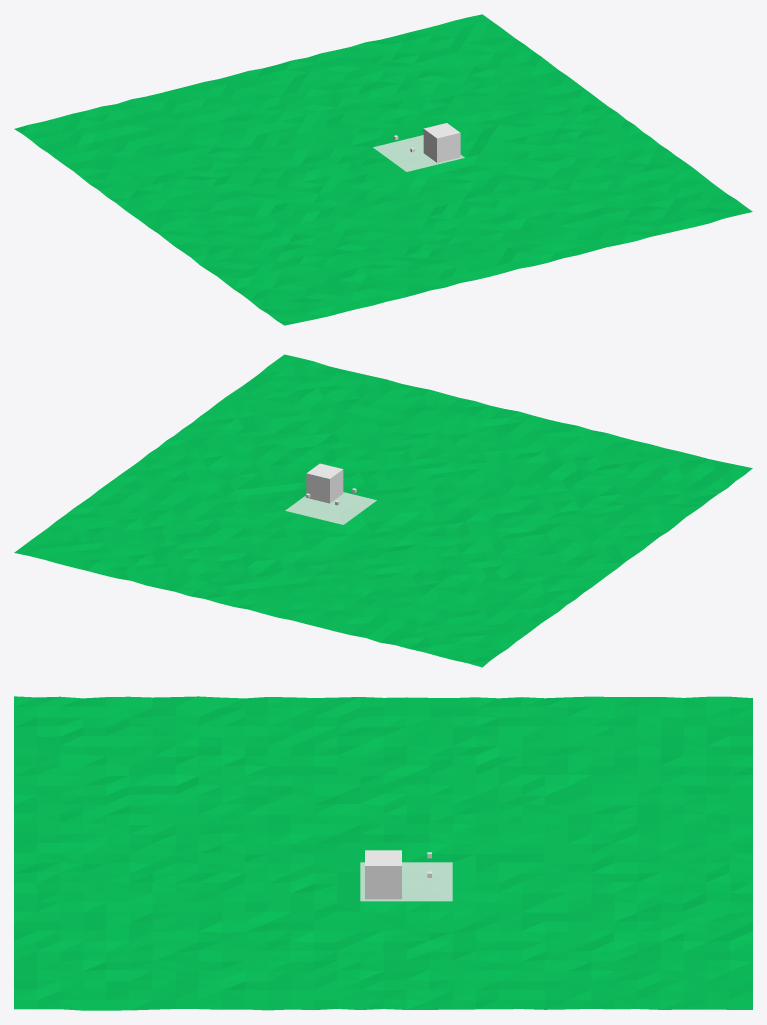
3 renders of one model, top to bottom at view 1: azimuth 30°, elevation 25°; view 2: azimuth 150°, elevation 25°; view 3: azimuth 270°, elevation 25°, orthographic. The views are drawn at different scales.
Parts seen in each view (by area): view 1: Plane, Block; view 2: Plane, Block; view 3: Plane, Block, Tile2_1, Tile1_1.
Part boxes in pixels (box(x1,y1,x2,y2)): Plane: box(14, 14, 752, 325); Block: box(423, 123, 460, 162); Plane: box(14, 354, 752, 667); Block: box(306, 463, 343, 503); Plane: box(14, 696, 752, 1010); Block: box(365, 850, 401, 899); Tile2_1: box(406, 881, 452, 901); Tile1_1: box(406, 862, 452, 881).
Bounding box in the file's own units: 16 × 16 × 0.85.
